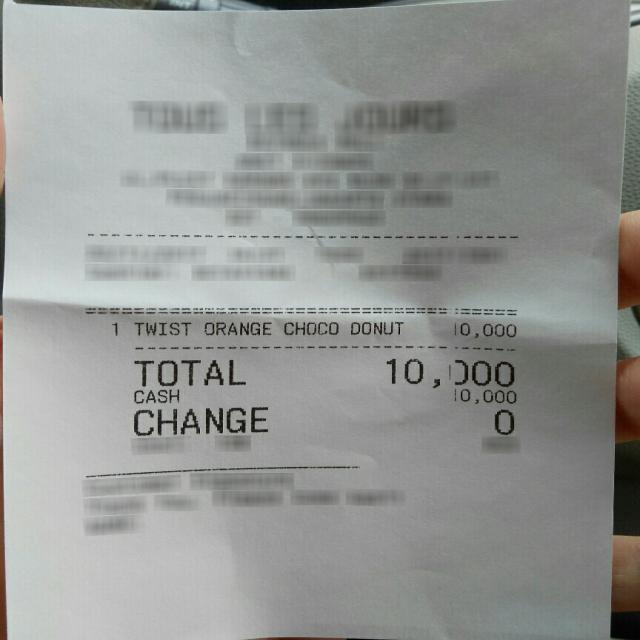kertas: (7, 0, 628, 640)
